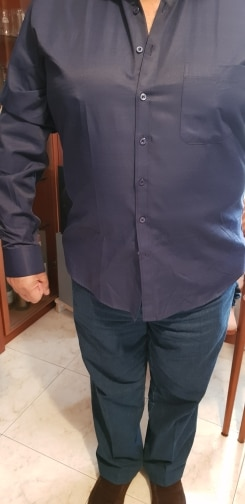shirts: (5, 6, 245, 306)
